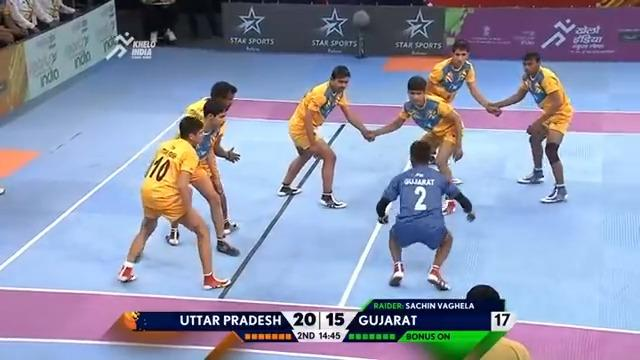Player: (116, 115, 231, 290), (276, 64, 374, 209), (366, 75, 465, 215), (486, 50, 573, 203), (165, 80, 240, 250), (424, 39, 501, 164)
Raider: (375, 139, 475, 290)
referee: (462, 283, 532, 359), (139, 0, 178, 44)
